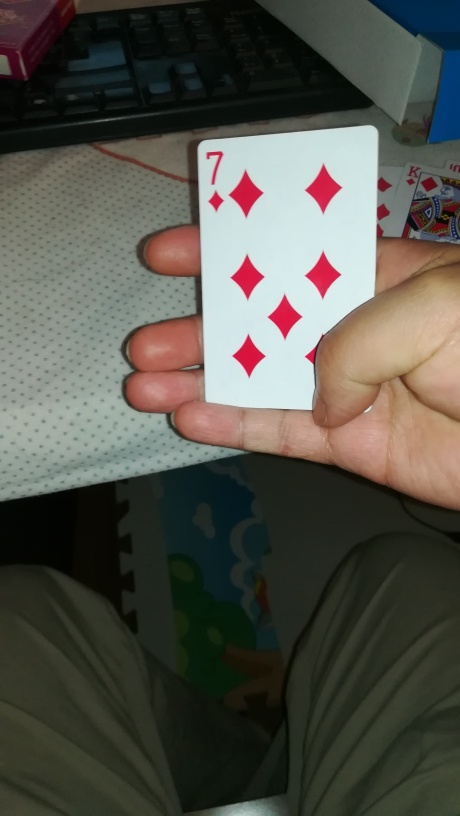fk 7: (197, 124, 373, 412)
